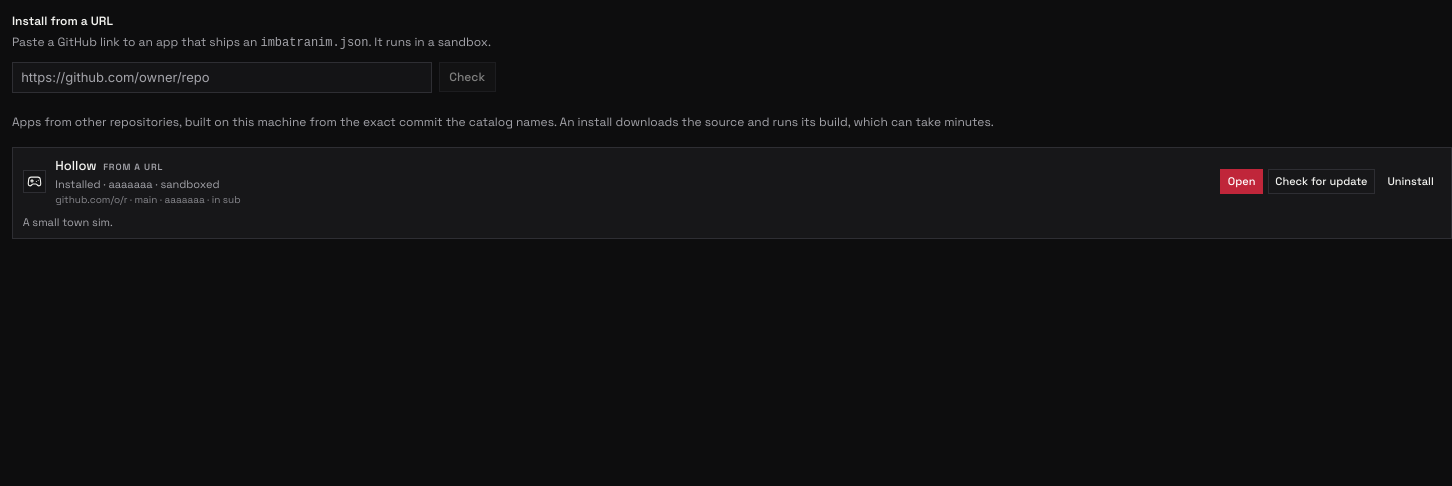
Test: MarketplaceSettings: Check for update on a URL app › re-inspects the stored URL and offers a new commit of the same app
The image size is (1452, 486).
Click the button "Check for update".
click(1321, 182)  # box [1268,169,1375,194]
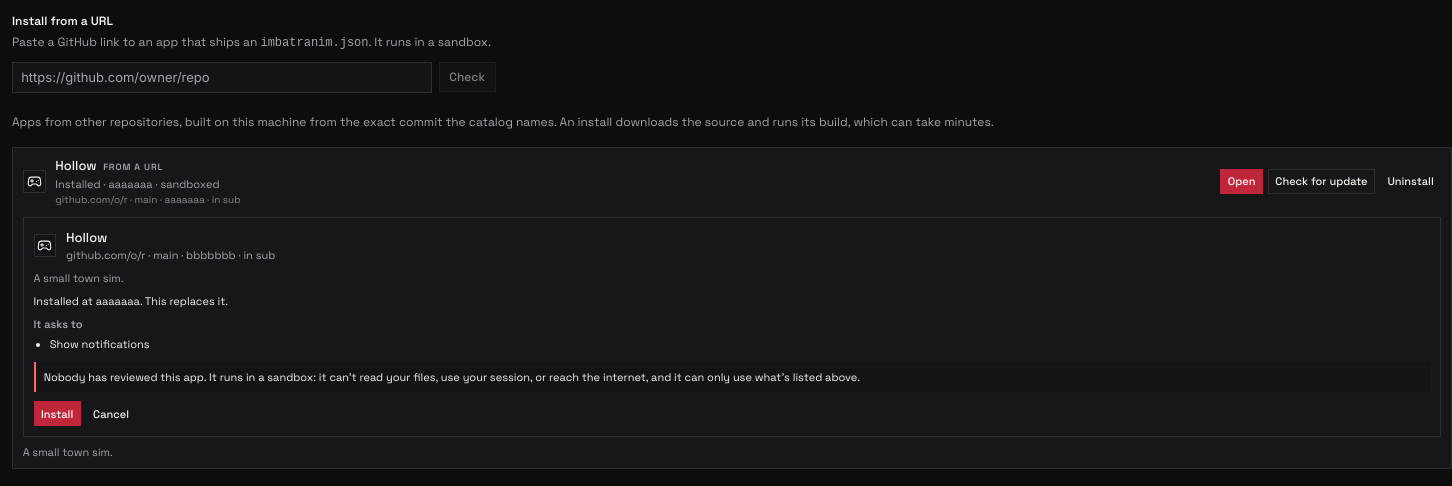
Now the text "Nobody has reviewed this app." is shown, box [44,370,860,384]
Now the button "Install" is shown, box [34,401,81,426]
